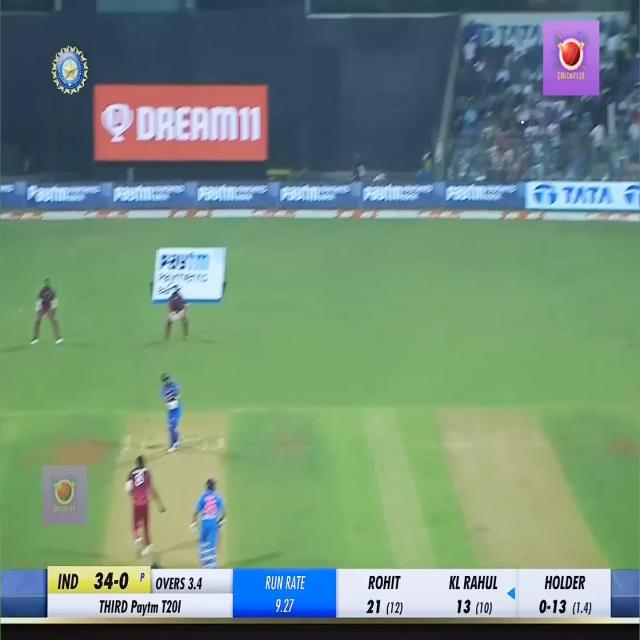fully_visible: (26, 181, 90, 222), (158, 246, 224, 283), (116, 175, 170, 219), (284, 175, 338, 218), (201, 174, 256, 215), (364, 175, 411, 220), (443, 180, 496, 218)
